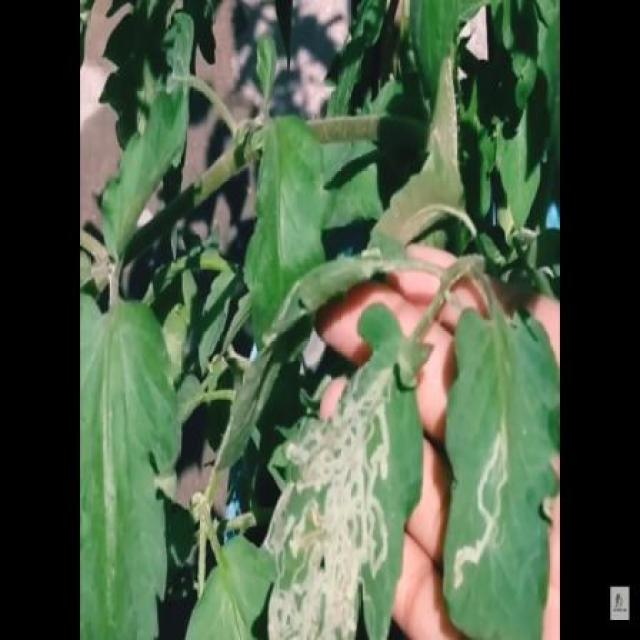Leaf Miner: (267, 298, 432, 640), (443, 301, 558, 640)
